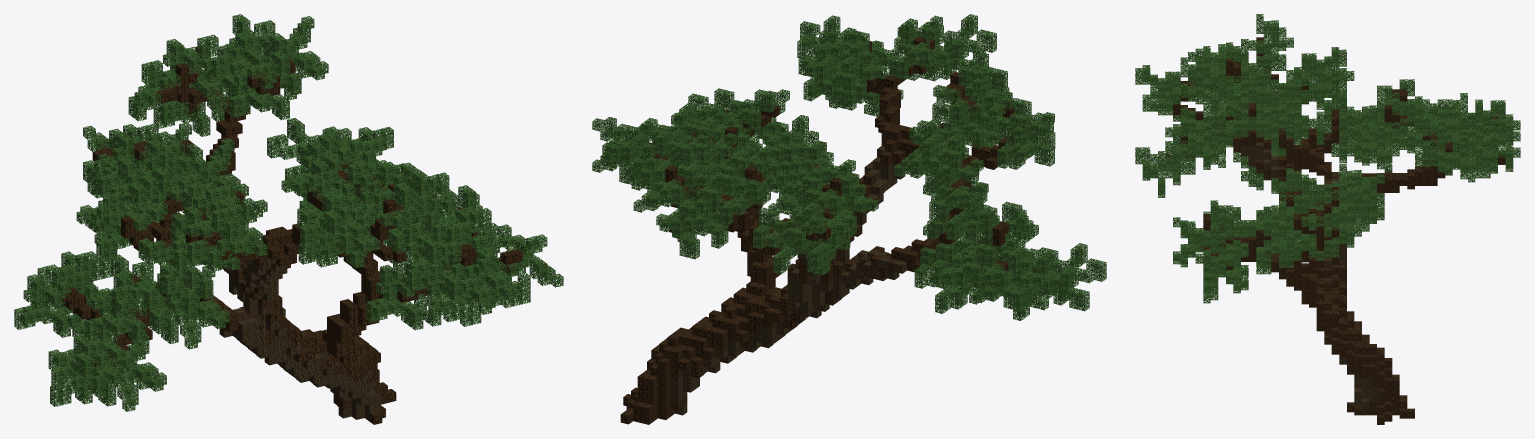
File: tree.obj
3 renders of one model, left to right at view 1: azimuth 30°, elevation 25°; view 2: azimuth 150°, elevation 25°; view 3: azimuth 270°, elevation 25°, orthographic. The views are drawn at different scales.
Parts seen in each view (by area): view 1: Leaves, Wood, Wood_(Acacia/Dark_Oak); view 2: Leaves, Wood, Wood_(Acacia/Dark_Oak); view 3: Leaves, Wood, Wood_(Acacia/Dark_Oak).
Part boxes in pixels (x1,y1,x2,y2): Leaves: [14, 14, 563, 411]; Wood: [48, 46, 522, 424]; Wood_(Acacia/Dark_Oak): [188, 257, 380, 420]; Leaves: [592, 14, 1106, 320]; Wood: [620, 37, 1044, 424]; Wood_(Acacia/Dark_Oak): [670, 146, 906, 415]; Leaves: [1135, 14, 1520, 303]; Wood: [1166, 37, 1505, 424]; Wood_(Acacia/Dark_Oak): [1241, 142, 1376, 408].
Size of the model in its own units: 1.38 by 1 by 1.21.
